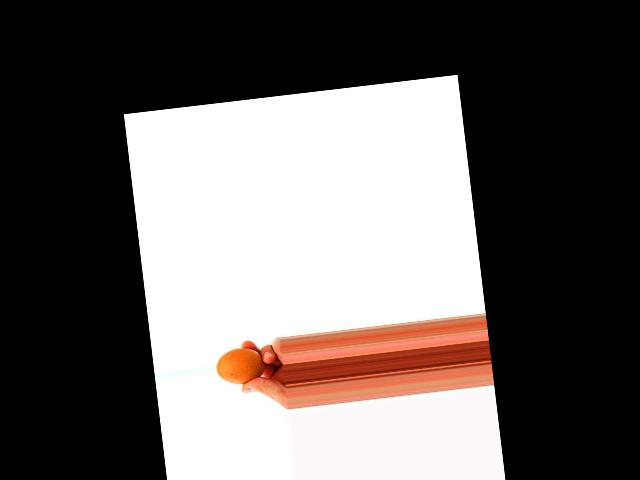egg: (214, 345, 265, 386)
